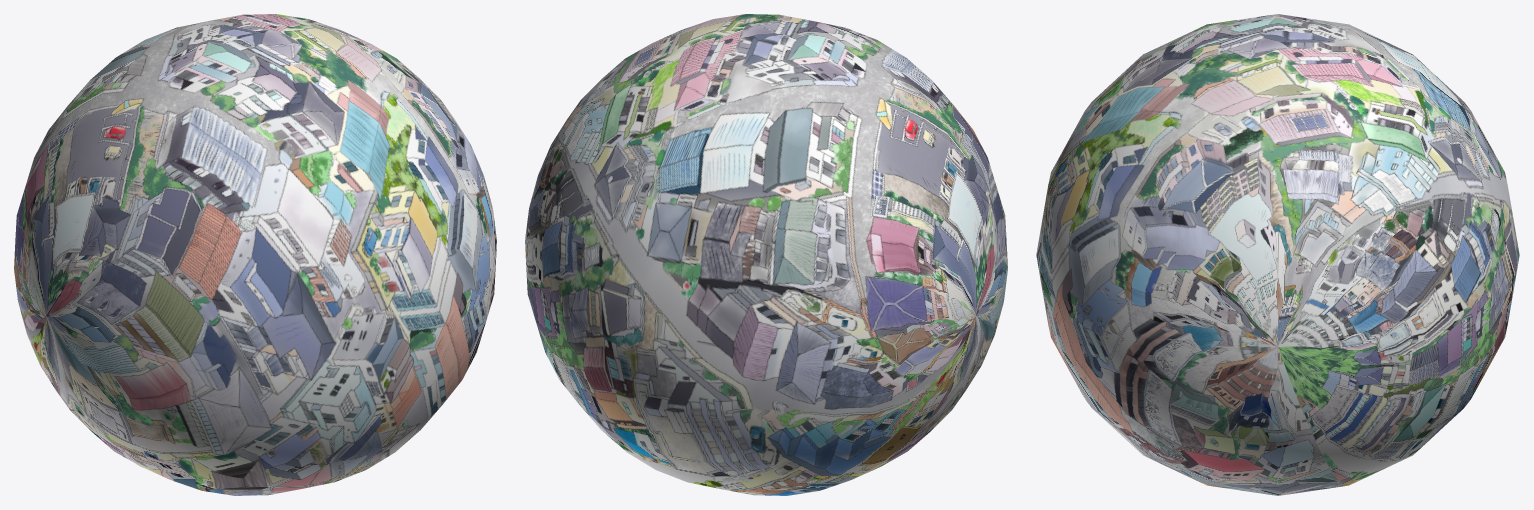
Rendered from dome_city.obj.
3 views of the same model, side by side, from view 1: azimuth 30°, elevation 25°; view 2: azimuth 150°, elevation 25°; view 3: azimuth 270°, elevation 25° (orthographic).
Size of the model in its own units: 5.23 by 5.23 by 5.24.
Materials: 1 (1 with a texture image).
